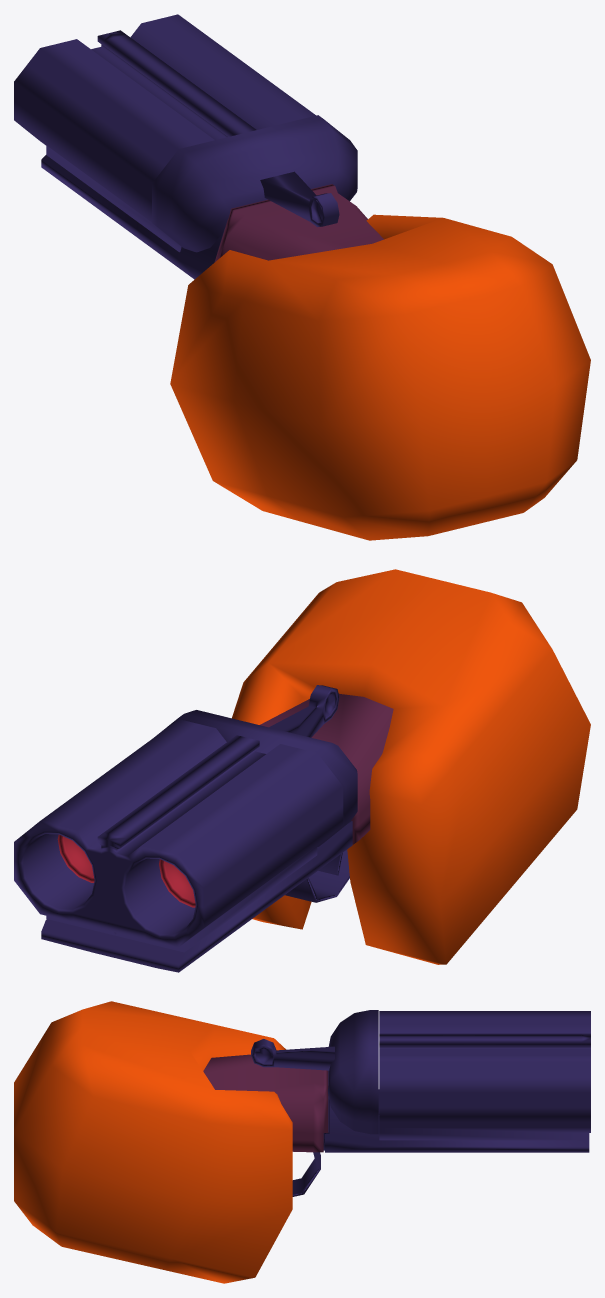
Rendered from SM_Gun.fbx.
3 views of the same model, one above another, from view 1: azimuth 30°, elevation 25°; view 2: azimuth 150°, elevation 25°; view 3: azimuth 270°, elevation 25° (orthographic). The views are drawn at different scales.
Visible parts, largest first — view 1: pCube1, Barrel, Barrel_Cap, Body, Selector; view 2: pCube1, Barrel, Body, Barrel_Cap, Selector, Triger_gard, Shotgun_Shell_L, Shotgun_Shell_R; view 3: pCube1, Barrel, Body, Barrel_Cap, Selector, Triger_gard.
Boxes of the visible parts, x1=… form: pCube1: x1=170, y1=214, x2=590, y2=540; Barrel: x1=14, y1=14, x2=315, y2=252; Barrel_Cap: x1=152, y1=115, x2=357, y2=252; Body: x1=41, y1=155, x2=383, y2=279; Selector: x1=260, y1=171, x2=339, y2=227; pCube1: x1=232, y1=569, x2=590, y2=964; Barrel: x1=14, y1=719, x2=343, y2=952; Body: x1=41, y1=693, x2=393, y2=972; Barrel_Cap: x1=154, y1=710, x2=357, y2=846; Selector: x1=269, y1=685, x2=339, y2=737; Triger_gard: x1=285, y1=849, x2=349, y2=902; Shotgun_Shell_L: x1=159, y1=859, x2=195, y2=907; Shotgun_Shell_R: x1=57, y1=834, x2=94, y2=882; pCube1: x1=14, y1=1001, x2=292, y2=1283; Barrel: x1=379, y1=1011, x2=590, y2=1140; Body: x1=203, y1=1054, x2=589, y2=1152; Barrel_Cap: x1=328, y1=1010, x2=378, y2=1134; Selector: x1=251, y1=1039, x2=334, y2=1070; Triger_gard: x1=292, y1=1152, x2=320, y2=1196.
Size of the model in its own units: 0.2255 by 0.2352 by 0.5491.
